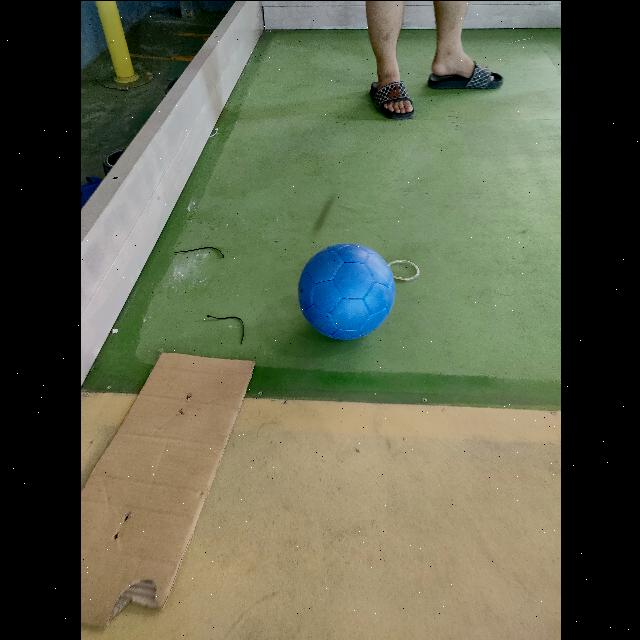B: (298, 242, 394, 338)
